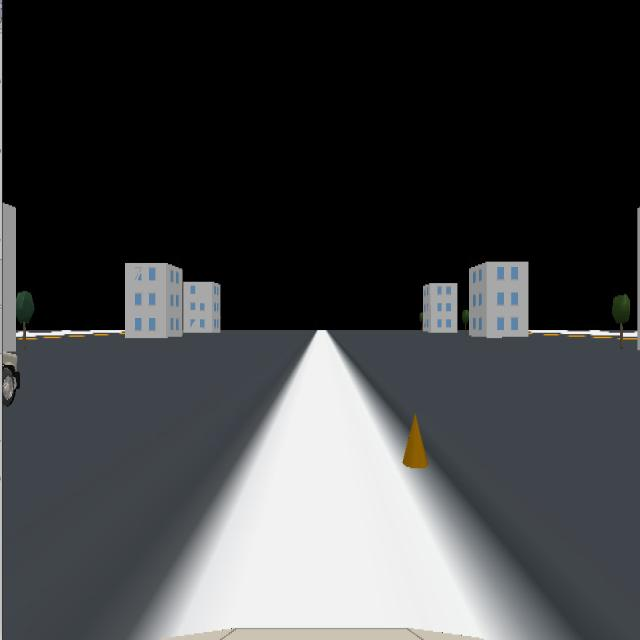cone: (402, 412, 428, 468)
